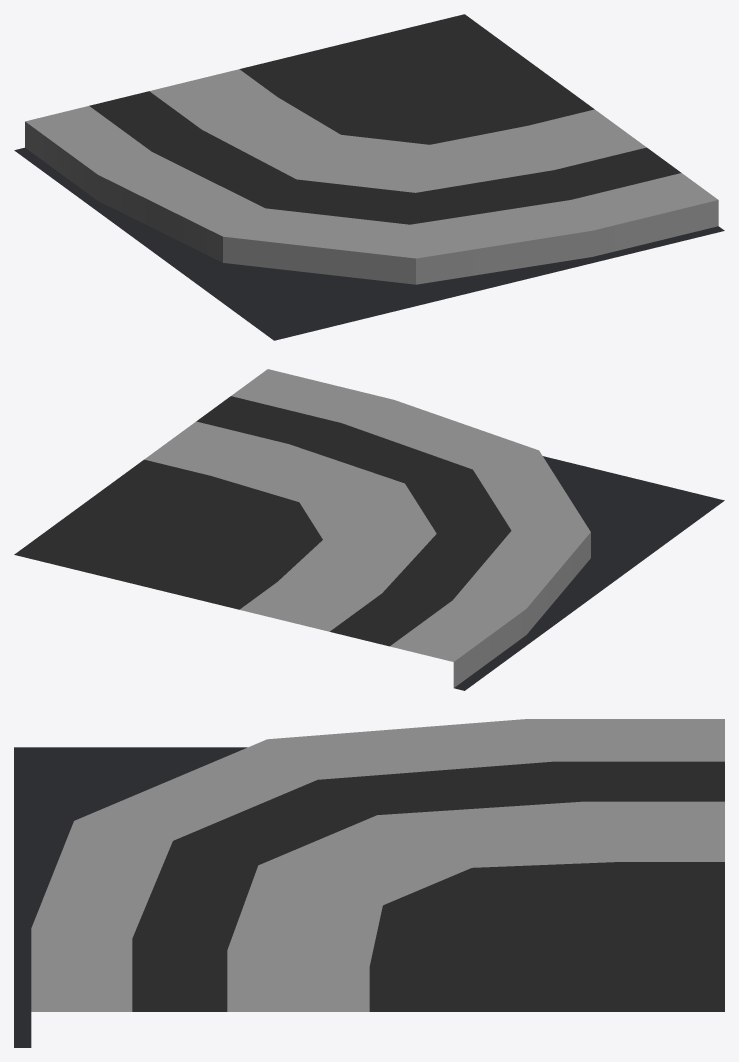
Rendered from Sidewalk_02_Corner_Out.FBX.
3 views of the same model, one above another, from view 1: azimuth 30°, elevation 25°; view 2: azimuth 150°, elevation 25°; view 3: azimuth 270°, elevation 25° (orthographic). The views are drawn at different scales.
Parts seen in each view (by area): view 1: Sidewalk_02_Corner_Out; view 2: Sidewalk_02_Corner_Out; view 3: Sidewalk_02_Corner_Out.
Boxes of the visible parts, box(x1,y1,x2,y2) form: Sidewalk_02_Corner_Out: box(14, 14, 724, 340); Sidewalk_02_Corner_Out: box(14, 369, 724, 690); Sidewalk_02_Corner_Out: box(14, 719, 724, 1047).
Size of the model in its own units: 180 by 10 by 180.
